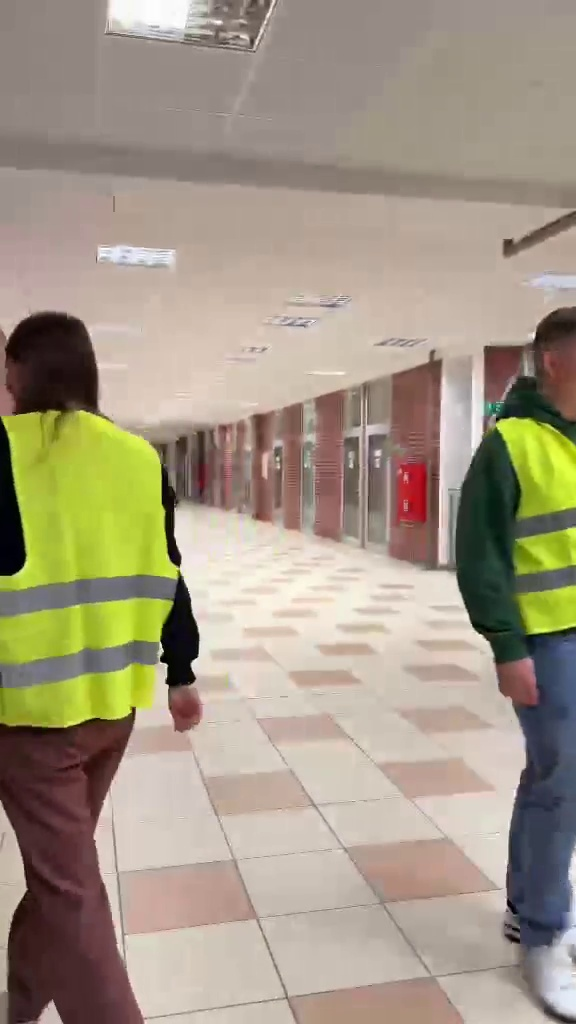vest: (0, 309, 222, 992), (463, 297, 576, 992)
